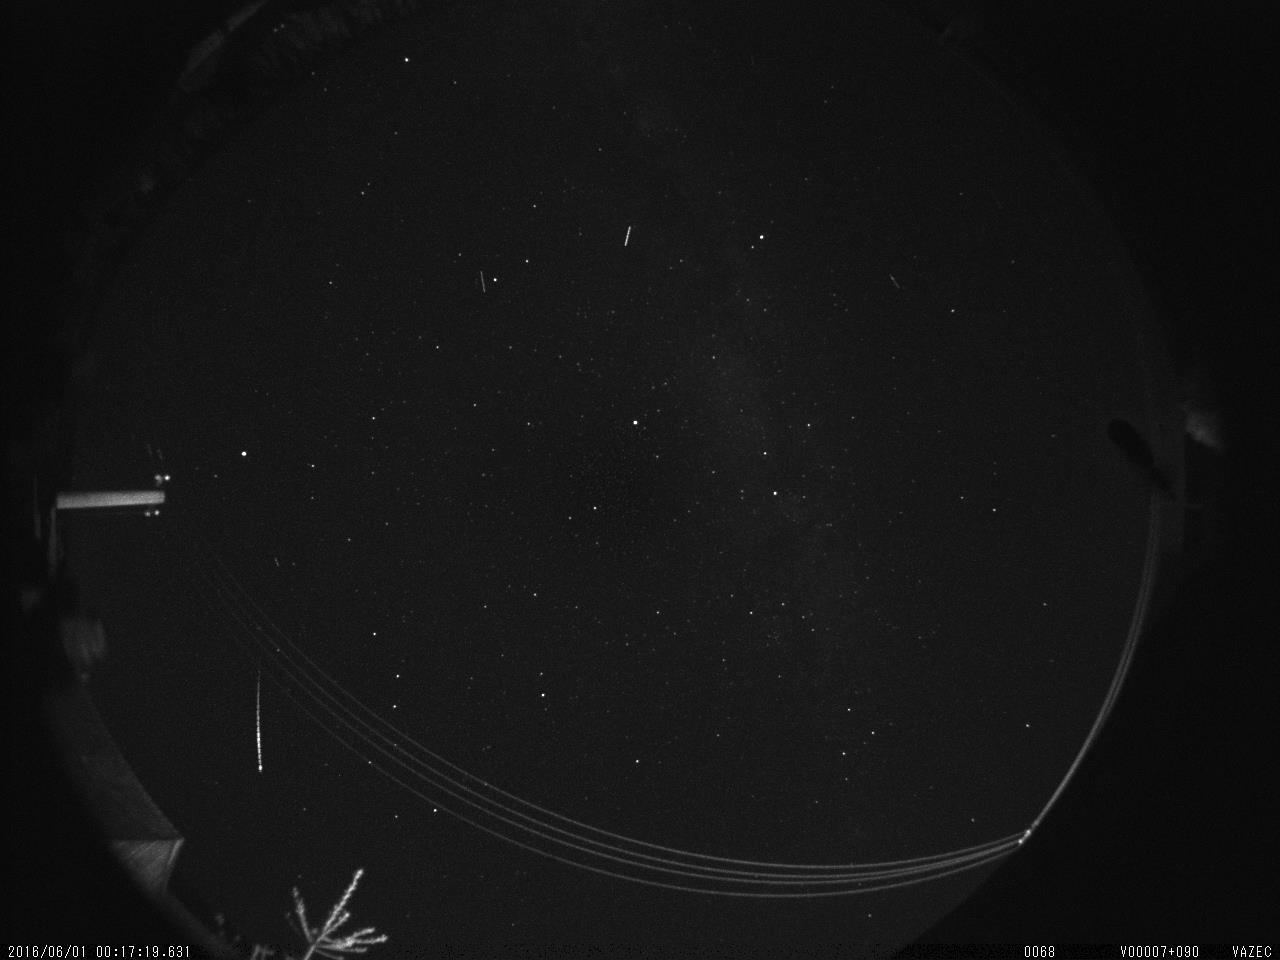Meteor: (247, 664, 271, 785), (881, 262, 904, 302)
